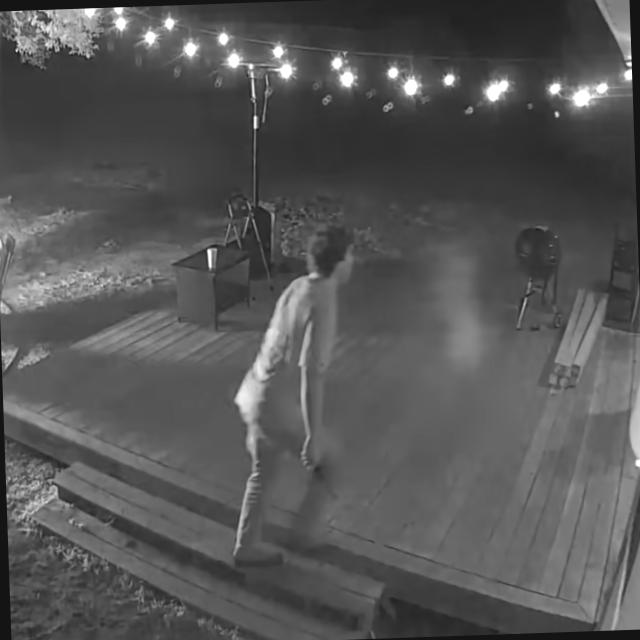person: (220, 222, 366, 567)
